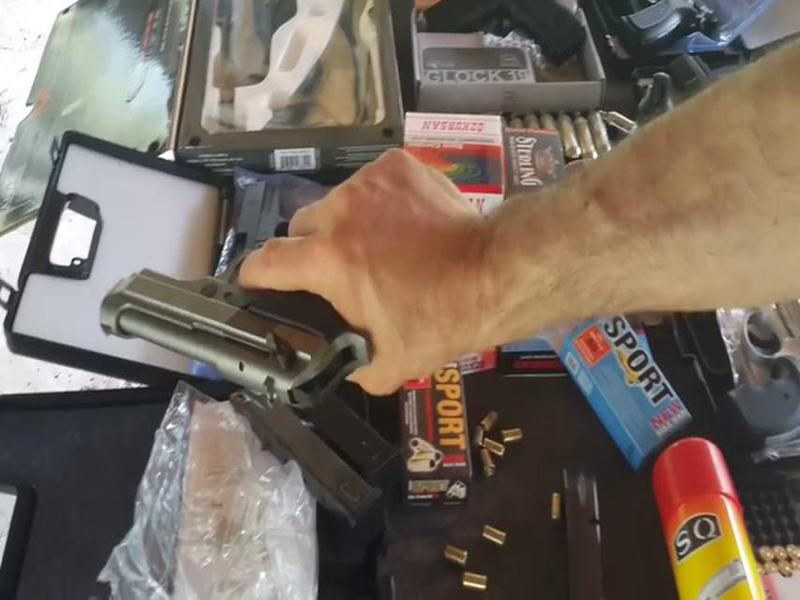Pistola: (72, 208, 418, 414)
